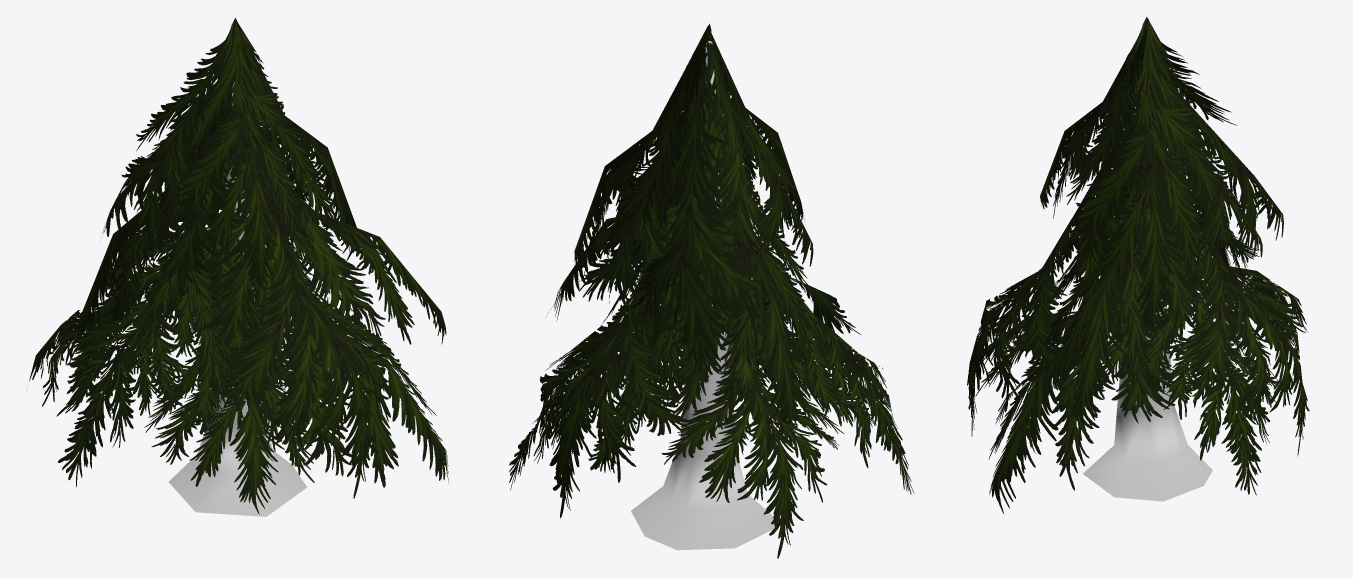
The model's file is spruce_04.fbx.
3 renders of one model, left to right at view 1: azimuth 30°, elevation 25°; view 2: azimuth 150°, elevation 25°; view 3: azimuth 270°, elevation 25°, orthographic. The views are drawn at different scales.
Visible parts, largest first — view 1: Spruce_4_LOD0; view 2: Spruce_4_LOD0; view 3: Spruce_4_LOD0.
Boxes of the visible parts, bbox=[...] form: Spruce_4_LOD0: bbox=[29, 18, 448, 516]; Spruce_4_LOD0: bbox=[509, 23, 914, 558]; Spruce_4_LOD0: bbox=[967, 17, 1309, 514].
Size of what is drawn, in the model's own units: 2.9 by 3.65 by 2.56.
